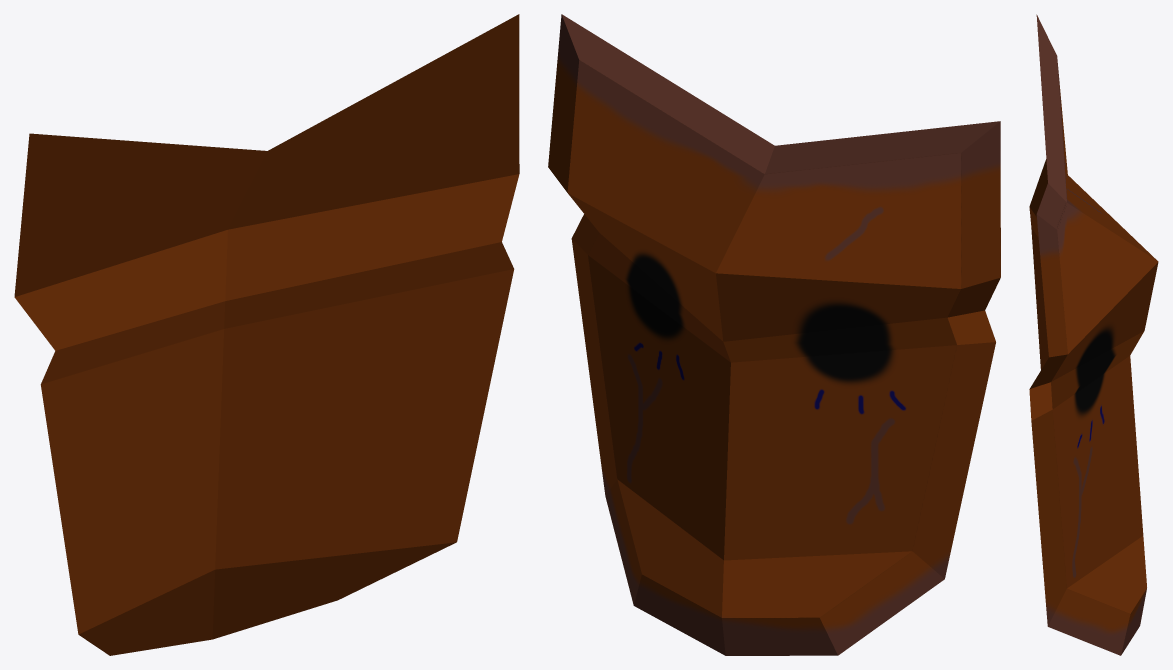
File: Mascara.fbx
3 renders of one model, left to right at view 1: azimuth 30°, elevation 25°; view 2: azimuth 150°, elevation 25°; view 3: azimuth 270°, elevation 25°, orthographic. The views are drawn at different scales.
Parts seen in each view (by area): view 1: Mascara; view 2: Mascara; view 3: Mascara.
Boxes of the visible parts, x1,y1,x2,y2 form: Mascara: (14,14,519,655); Mascara: (548,14,1000,655); Mascara: (1029,14,1158,655).
Bounding box in the file's own units: 84.17 × 97.31 × 22.24.
